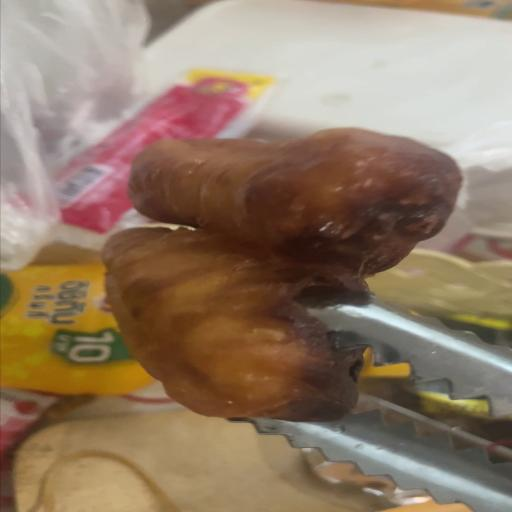street_burnt_defect: (103, 128, 462, 421)
